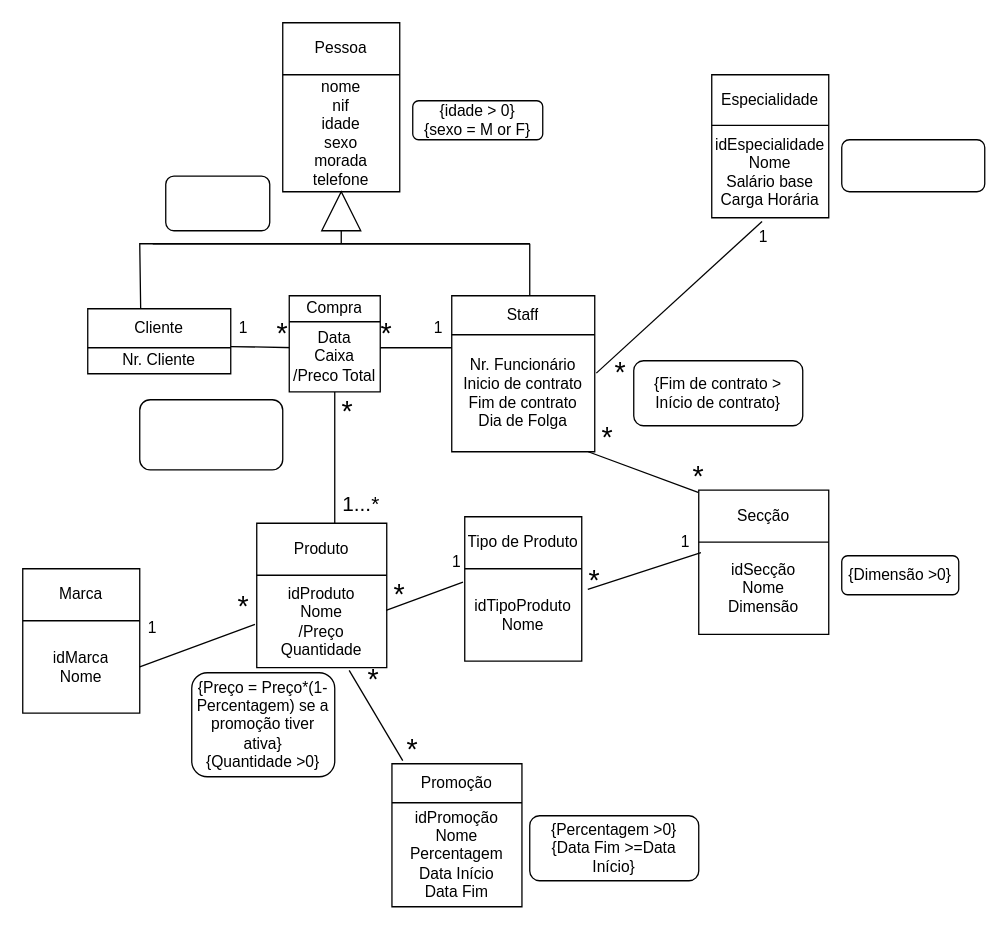
This 1007x929 diagram has some shape labels left out. Here are the shapes that lost their labels. From the top down, the box of each, then its label:
(840, 138, 985, 192): {Salário base > 0} {Carga Horária >0}
(164, 175, 270, 231): {Completa e sobreposta}
(138, 398, 283, 470): {PrecoTotal = soma dos preços de todos os produtos}
